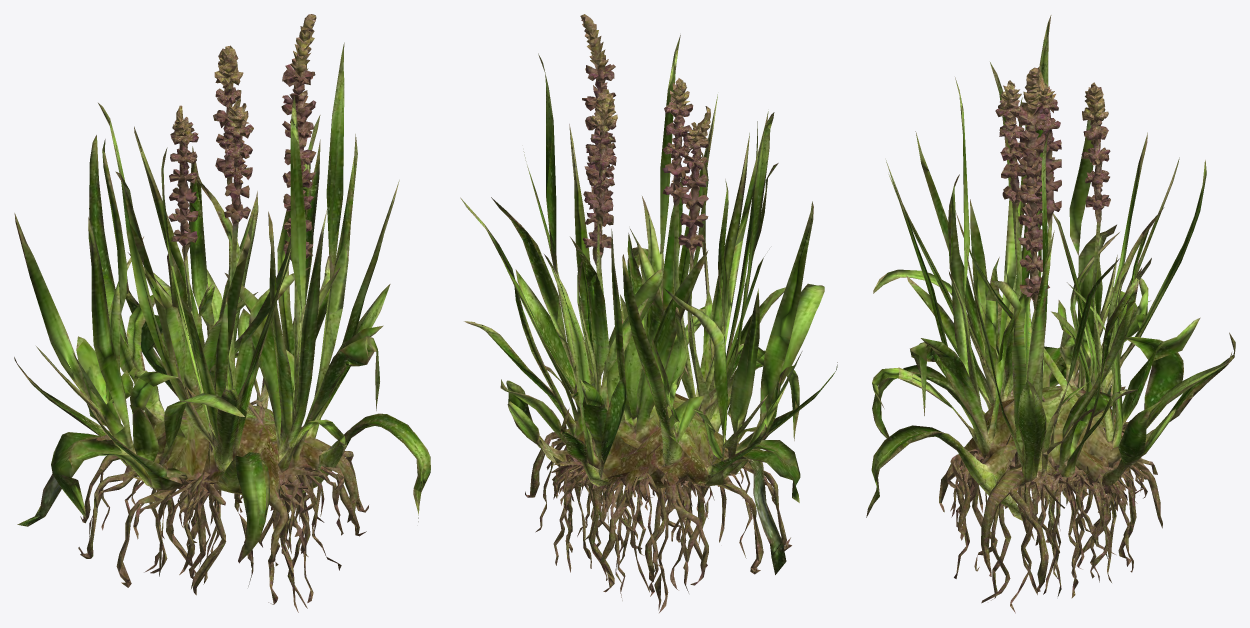
Rendered from plant-marsh_herb-final.glb.
3 renders of one model, left to right at view 1: azimuth 30°, elevation 25°; view 2: azimuth 150°, elevation 25°; view 3: azimuth 270°, elevation 25°, orthographic. The views are drawn at different scales.
Parts seen in each view (by area): view 1: output_unwrapped; view 2: output_unwrapped; view 3: output_unwrapped.
Boxes of the visible parts, x1,y1,x2,y2 form: output_unwrapped: (14,14,430,612); output_unwrapped: (460,14,837,612); output_unwrapped: (866,15,1235,613).
Size of the model in its own units: 0.1751 by 0.2971 by 0.1795.
Materials: 1 (1 with a texture image).
